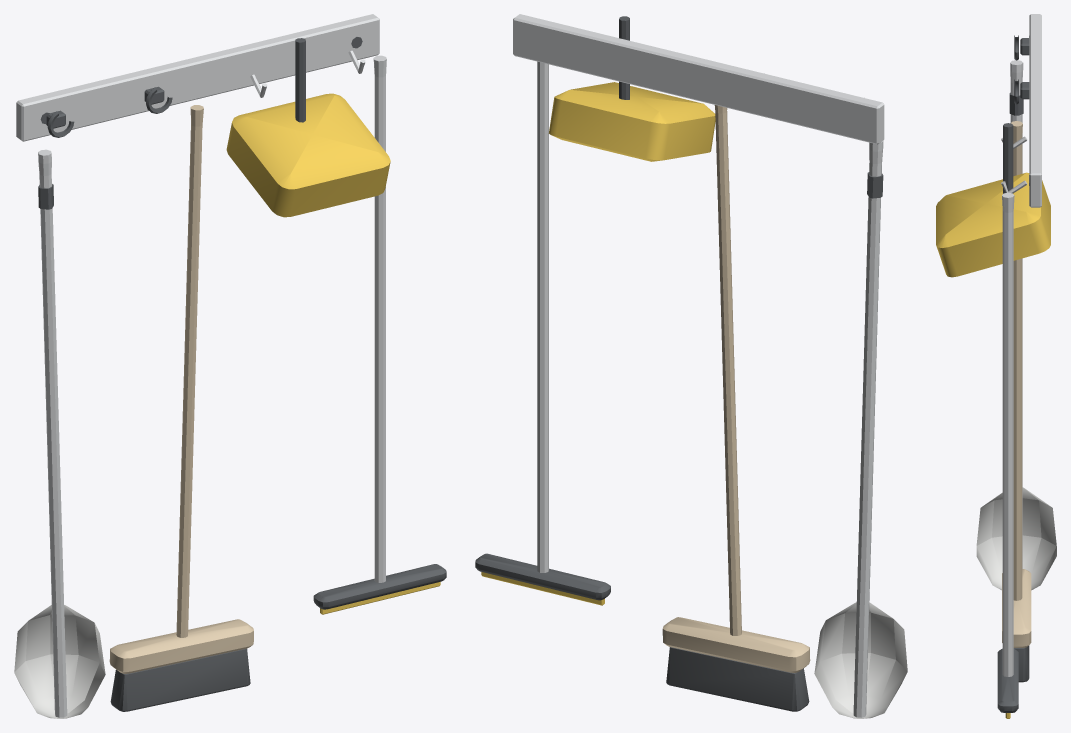
The model's file is laundrette-and-cleaning-mop-broom-wall-rail-a89d9eb8__25568.glb.
3 views of the same model, side by side, from view 1: azimuth 30°, elevation 25°; view 2: azimuth 150°, elevation 25°; view 3: azimuth 270°, elevation 25° (orthographic). The views are drawn at different scales.
Parts seen in each view (by area): view 1: mop-broom-wall-rail; view 2: mop-broom-wall-rail; view 3: mop-broom-wall-rail.
Boxes of the visible parts, <box> form: mop-broom-wall-rail: <box>14,14,446,718</box>; mop-broom-wall-rail: <box>475,14,907,718</box>; mop-broom-wall-rail: <box>936,14,1056,718</box>.
Size of the model in its own units: 1.05 by 1.51 by 0.2859.
